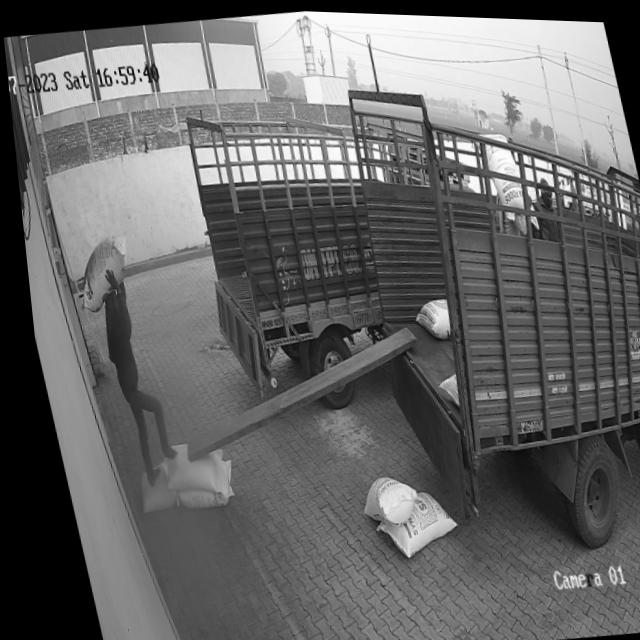sack: (358, 484, 451, 560), (62, 231, 133, 315), (146, 437, 219, 495), (157, 456, 229, 510), (346, 468, 411, 525), (122, 460, 169, 515)
